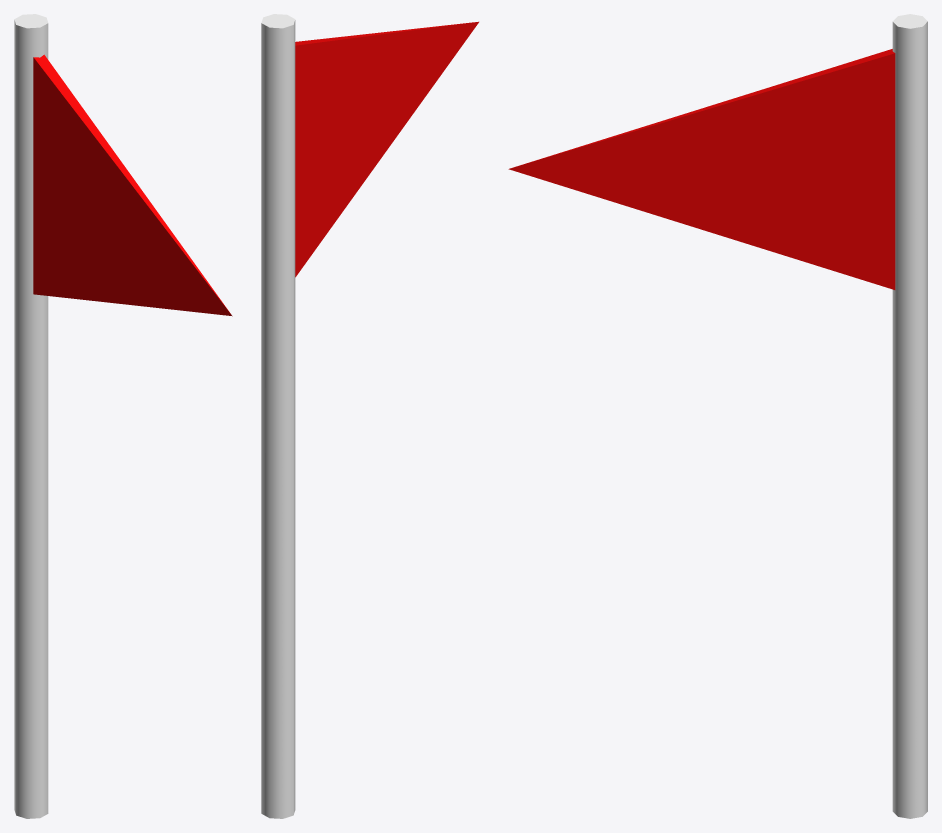
Rendered from Checkpoint_Flag.fbx.
3 renders of one model, left to right at view 1: azimuth 30°, elevation 25°; view 2: azimuth 150°, elevation 25°; view 3: azimuth 270°, elevation 25°, orthographic.
Parts seen in each view (by area): view 1: Flag; view 2: Flag; view 3: Flag.
Part boxes in pixels (x1,y1,x2,y2): Flag: (14, 14, 232, 818); Flag: (261, 14, 478, 818); Flag: (508, 14, 927, 818).
Bounding box in the file's own units: 3.17 × 78.57 × 37.83.
